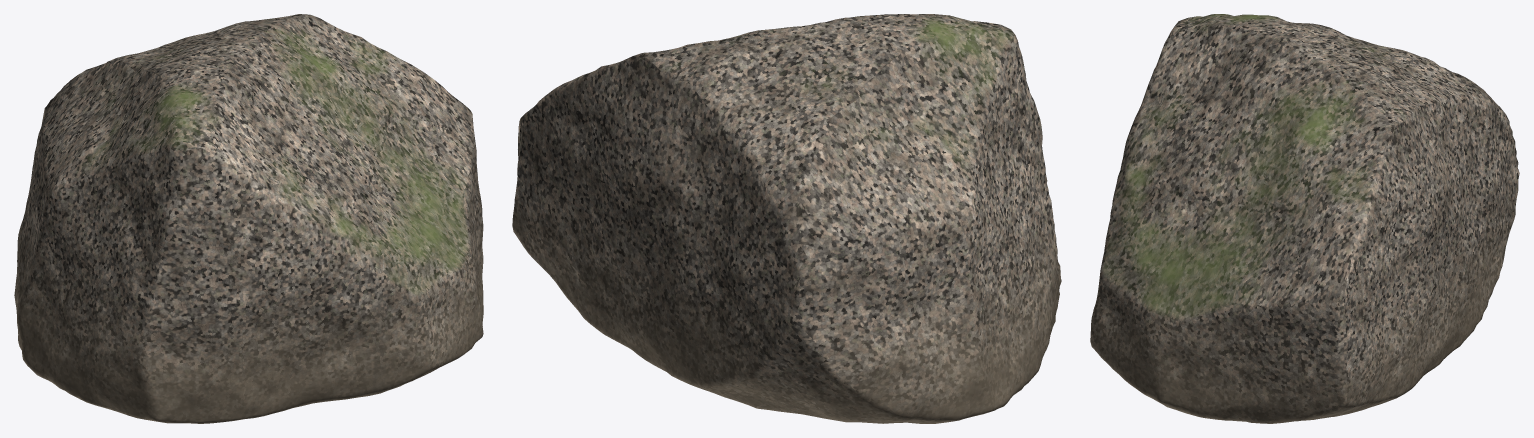
File: SM_Rock_B_Body.fbx
The picture shows the model from 3 angles, left to right: view 1: azimuth 30°, elevation 25°; view 2: azimuth 150°, elevation 25°; view 3: azimuth 270°, elevation 25°; orthographic projection. The views are drawn at different scales.
Parts seen in each view (by area): view 1: Rock_B_Body; view 2: Rock_B_Body; view 3: Rock_B_Body.
Boxes of the visible parts, box(x1,y1,x2,y2) form: Rock_B_Body: box(14, 14, 483, 423); Rock_B_Body: box(512, 14, 1061, 423); Rock_B_Body: box(1090, 14, 1519, 423).
Size of the model in its own units: 0.8602 by 1.01 by 0.6354.
1 material, 1 textured.
